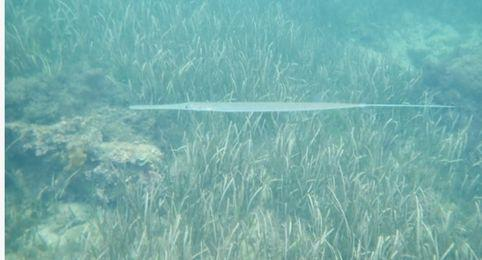Fistularia commersonii: (100, 77, 456, 146)
